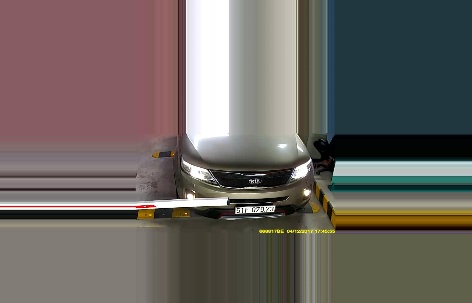plate: (234, 203, 277, 215)
